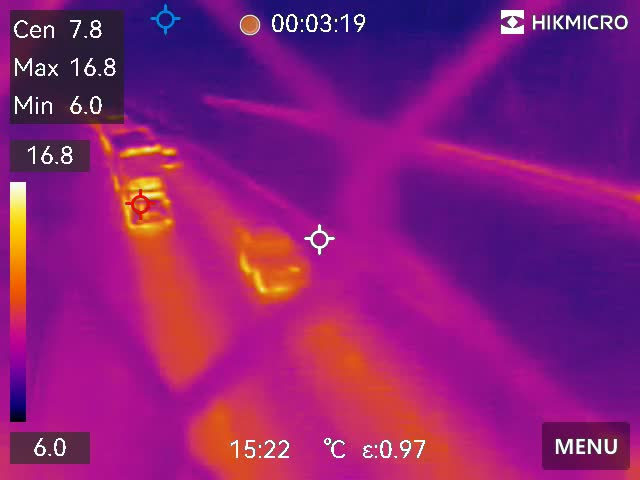heavyTruck: (101, 130, 183, 235)
